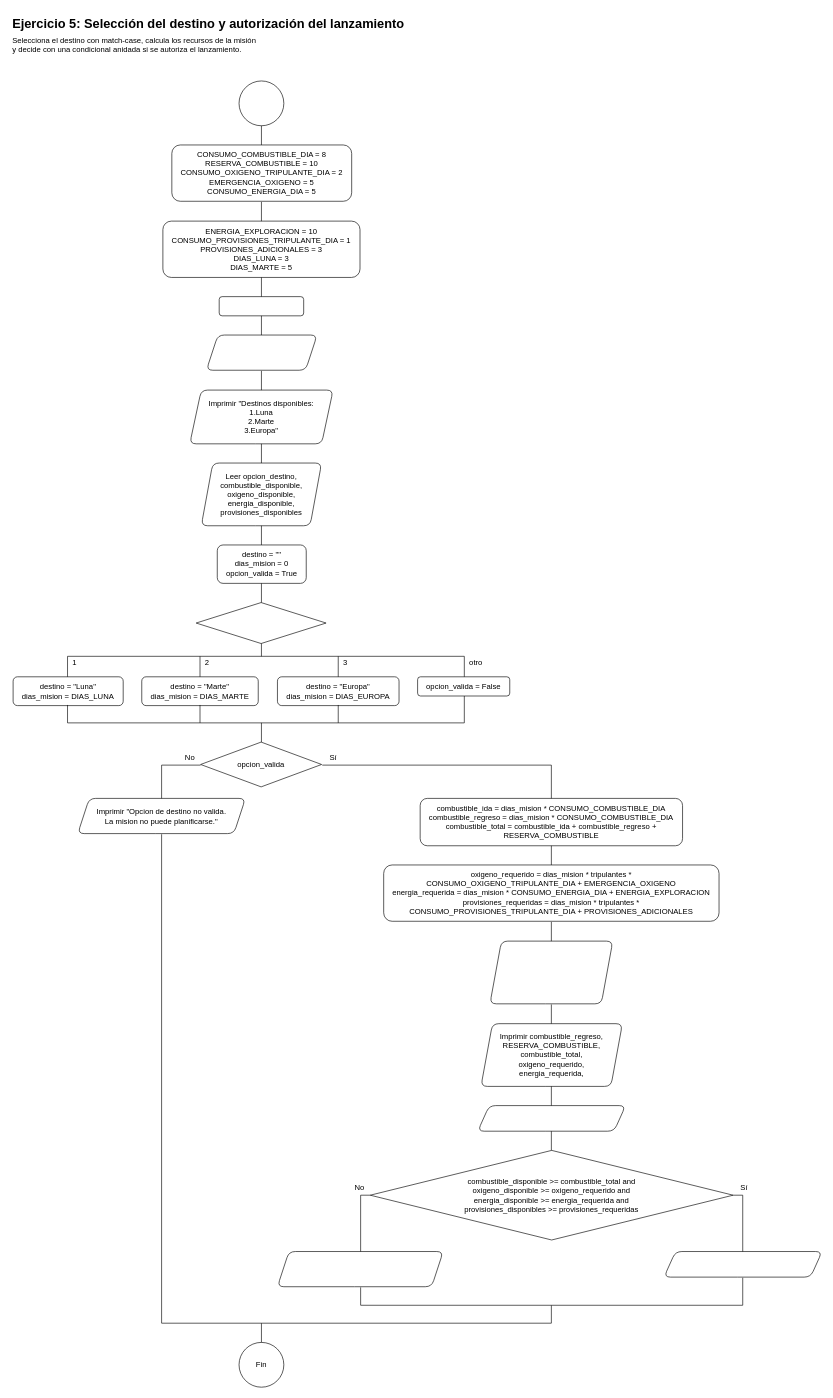
The diagram is 833 pixels wide and 1398 high, and some of its shapes have lost their labels. The shapes that lost their labels are listed below. From the top down, each one's centre as x and y in pixels, then its label:
(x=261, y=103): Inicio
(x=261, y=306): DIAS_EUROPA = 7
(x=261, y=352): Leer nombre_mision, tripulantes
(x=261, y=623): opcion_destino
(x=551, y=972): Imprimir nombre_mision, destino, tripulantes, dias_mision, combustible_ida
(x=551, y=1118): Imprimir provisiones_requeridas
(x=360, y=1269): Imprimir "Lanzamiento no autorizado. La mision debe ser revisada."
(x=742, y=1264): Imprimir "Lanzamiento autorizado."
